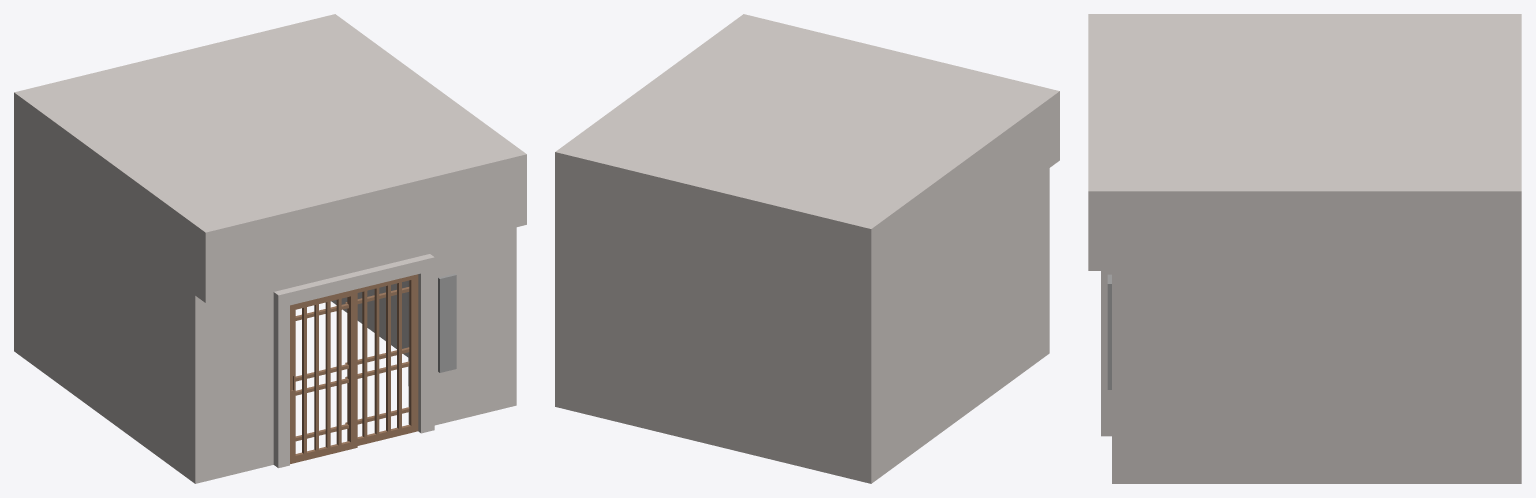
File: shop1.fbx
3 views of the same model, side by side, from view 1: azimuth 30°, elevation 25°; view 2: azimuth 150°, elevation 25°; view 3: azimuth 270°, elevation 25° (orthographic). The views are drawn at different scales.
Parts seen in each view (by area): view 1: polySurface2, door3, pCube9; view 2: polySurface2; view 3: polySurface2, pCube9.
Boxes of the visible parts, x1,y1,x2,y2 form: polySurface2: (14, 14, 526, 483); door3: (290, 274, 418, 463); pCube9: (438, 273, 456, 372); polySurface2: (555, 14, 1059, 483); polySurface2: (1088, 14, 1521, 483); pCube9: (1107, 274, 1111, 389).
Size of the model in its own units: 38.19 by 29.42 by 39.46.
